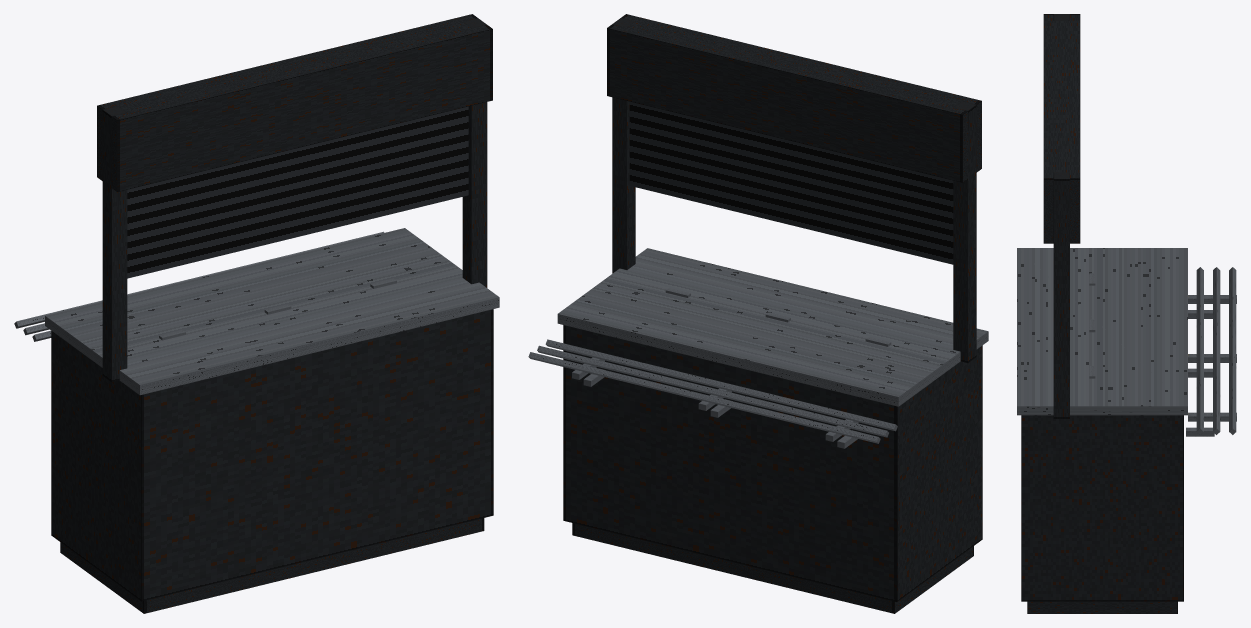
File: canteen_counter_industrial_hazard.glb
3 views of the same model, side by side, from view 1: azimuth 30°, elevation 25°; view 2: azimuth 150°, elevation 25°; view 3: azimuth 270°, elevation 25° (orthographic). The views are drawn at different scales.
Parts seen in each view (by area): view 1: canteen_counter_industrial_hazard; view 2: canteen_counter_industrial_hazard; view 3: canteen_counter_industrial_hazard.
Boxes of the visible parts, box(x1,y1,x2,y2) form: canteen_counter_industrial_hazard: box(14, 14, 499, 613); canteen_counter_industrial_hazard: box(528, 14, 988, 613); canteen_counter_industrial_hazard: box(1017, 14, 1236, 613).
Size of the model in its own units: 1.92 by 2.4 by 1.08.
Materials: 4 (4 with a texture image).
